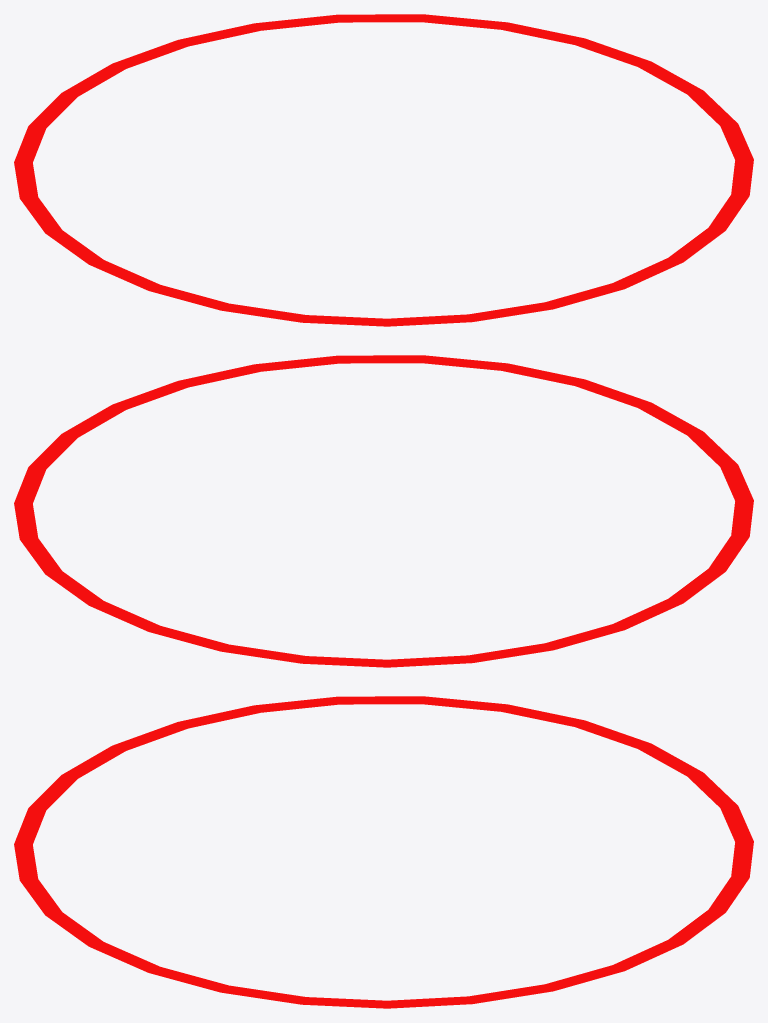
The model's file is Kespsu-443Ring5.gltf.
The picture shows the model from 3 angles, top to bottom: view 1: azimuth 30°, elevation 25°; view 2: azimuth 150°, elevation 25°; view 3: azimuth 270°, elevation 25°; orthographic projection.
Size of the model in its own units: 177 by 0 by 178.
